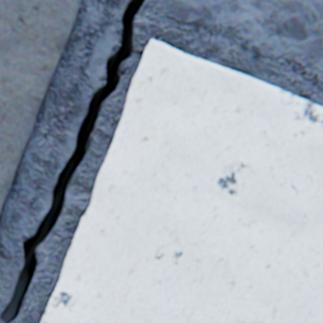brick: (41, 41, 322, 322), (0, 0, 80, 212)
crack: (0, 0, 146, 322)
